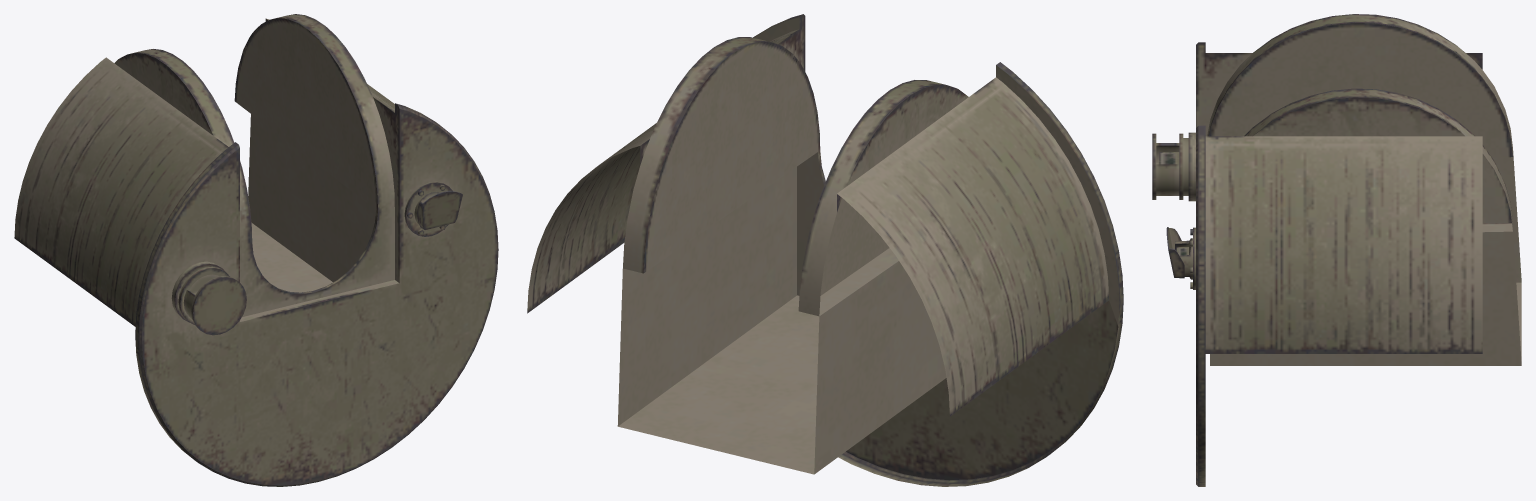
Rendered from Turret_01.glb.
3 views of the same model, side by side, from view 1: azimuth 30°, elevation 25°; view 2: azimuth 150°, elevation 25°; view 3: azimuth 270°, elevation 25° (orthographic). The views are drawn at different scales.
Visible parts, largest first — view 1: set_0_group_0; view 2: set_0_group_0; view 3: set_0_group_0.
Part boxes in pixels (x1,y1,x2,y2): set_0_group_0: [14, 14, 498, 486]; set_0_group_0: [527, 14, 1123, 486]; set_0_group_0: [1152, 14, 1521, 486].
Size of the model in its own units: 2.14 by 2.17 by 1.77.
Materials: 1 (1 with a texture image).
